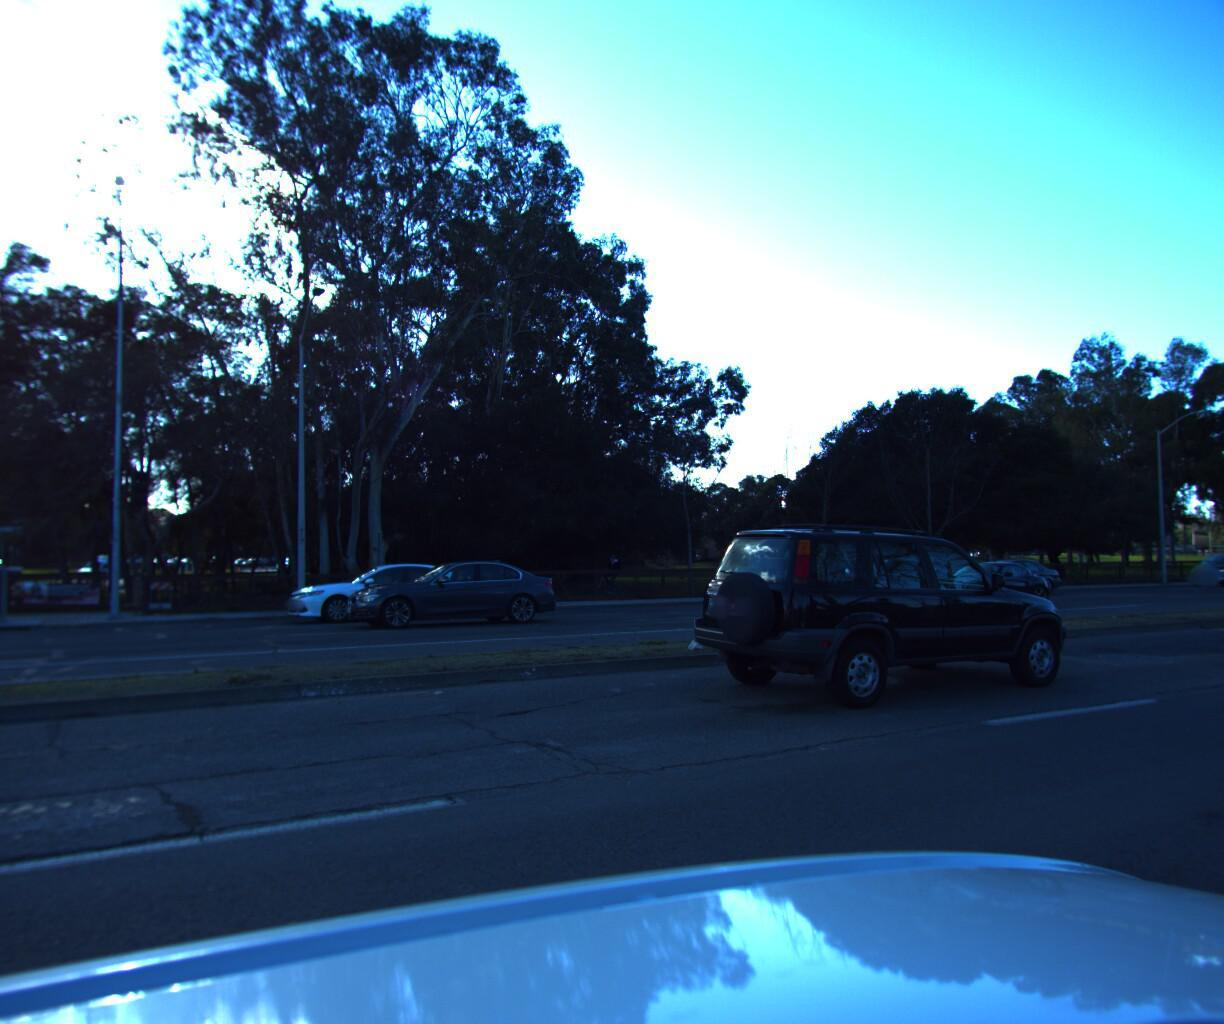car: (644, 493, 1086, 721), (328, 558, 552, 630), (276, 557, 486, 625), (884, 548, 1059, 611), (939, 552, 1067, 595), (1176, 545, 1224, 580), (71, 553, 128, 578)
